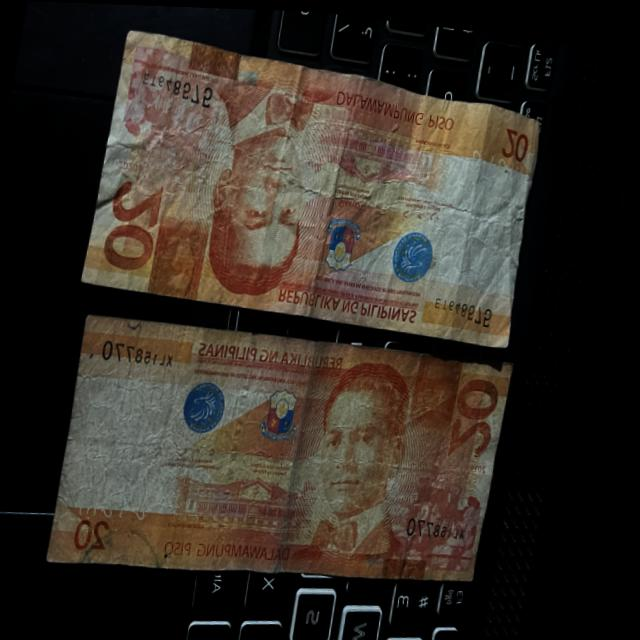concealed_value: (153, 210, 212, 296), (413, 350, 470, 430)
see_through_mark: (81, 470, 167, 526)
serial_number: (98, 325, 190, 380), (411, 505, 482, 540)
value: (96, 168, 177, 281), (444, 359, 515, 467)
